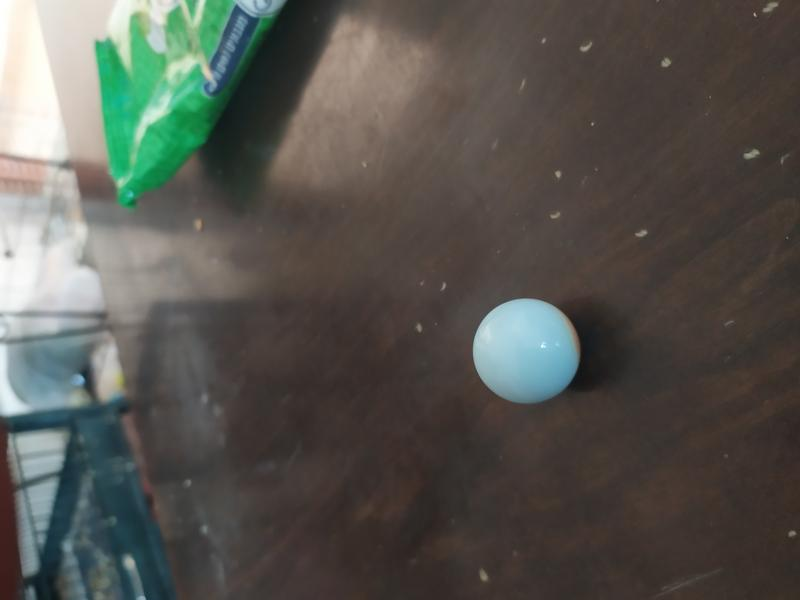Warning: (470, 295, 584, 408)
